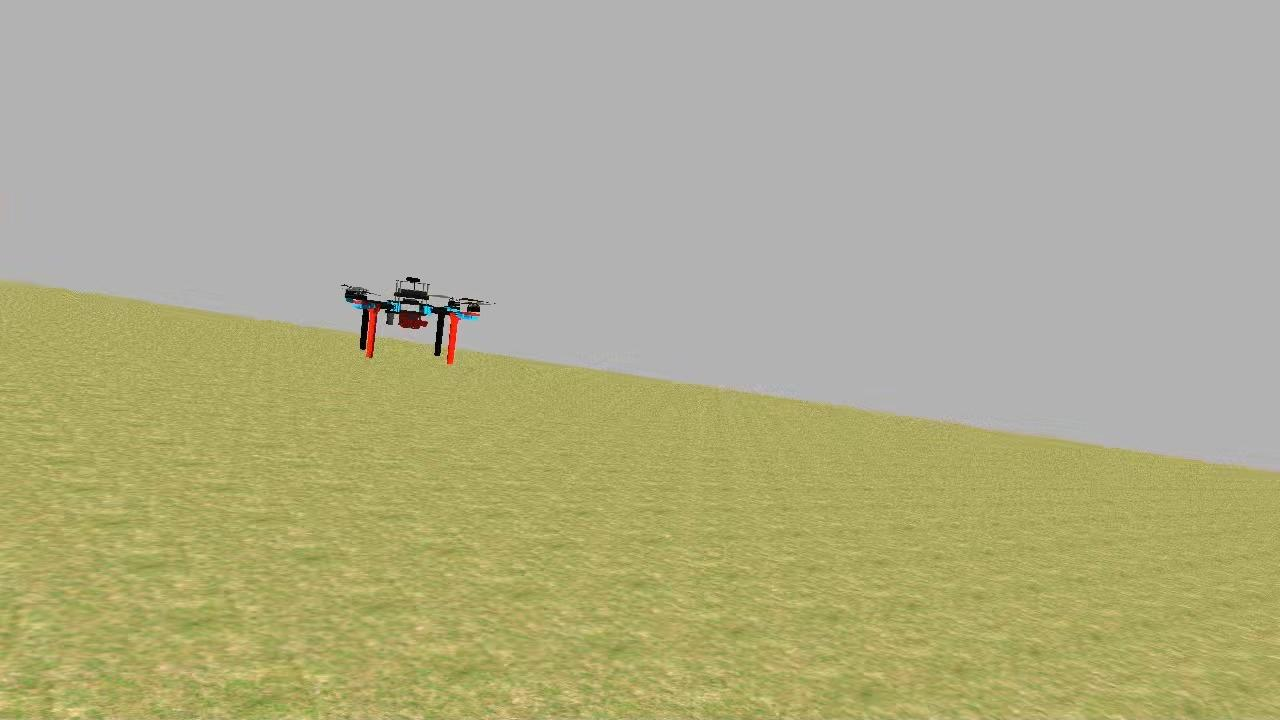UAV: (332, 274, 486, 372)
